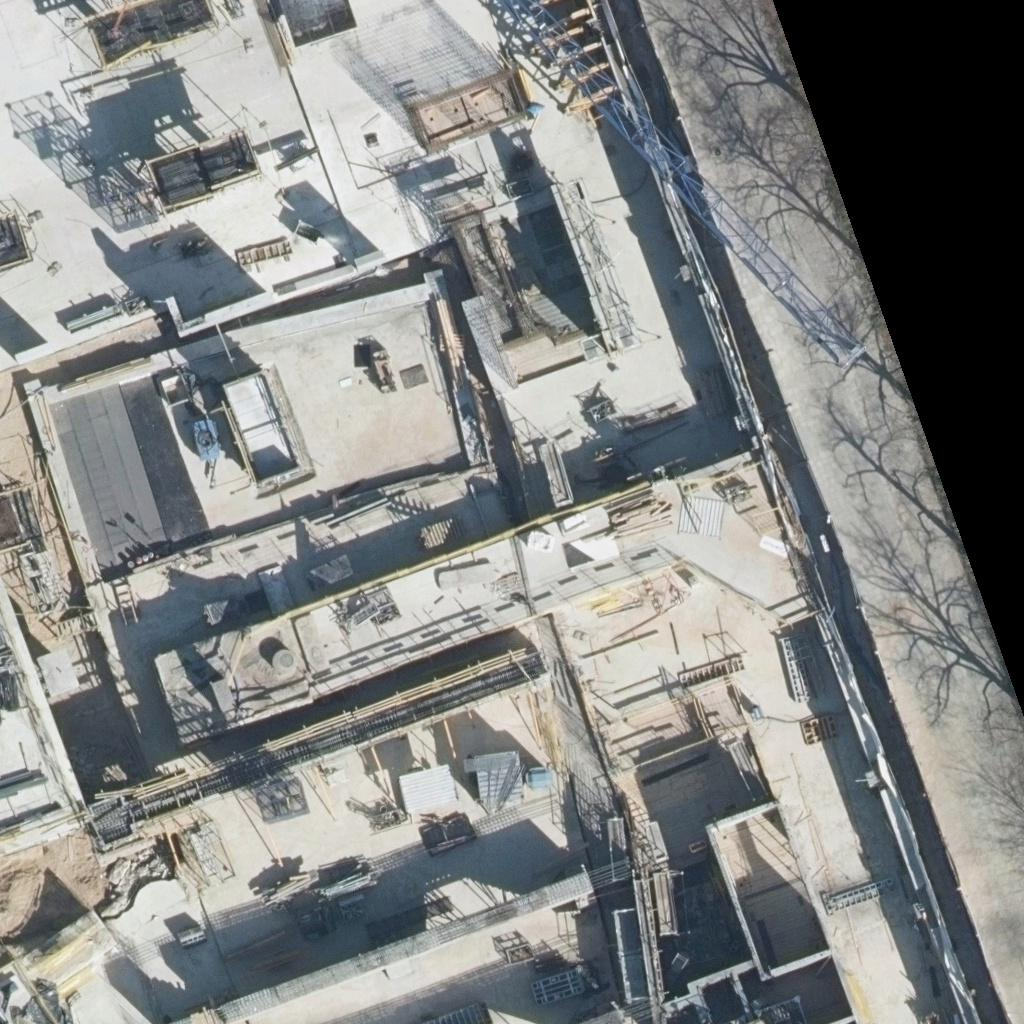zuraw_wiezowy: (497, 0, 864, 368)
